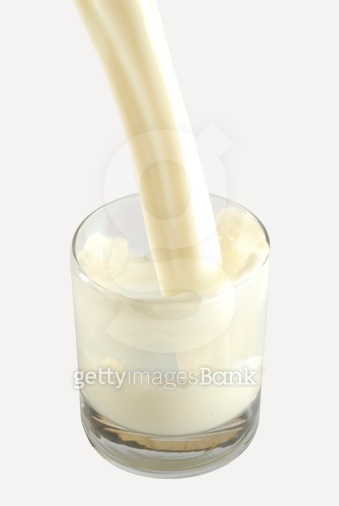glass of milk: (63, 166, 270, 486)
